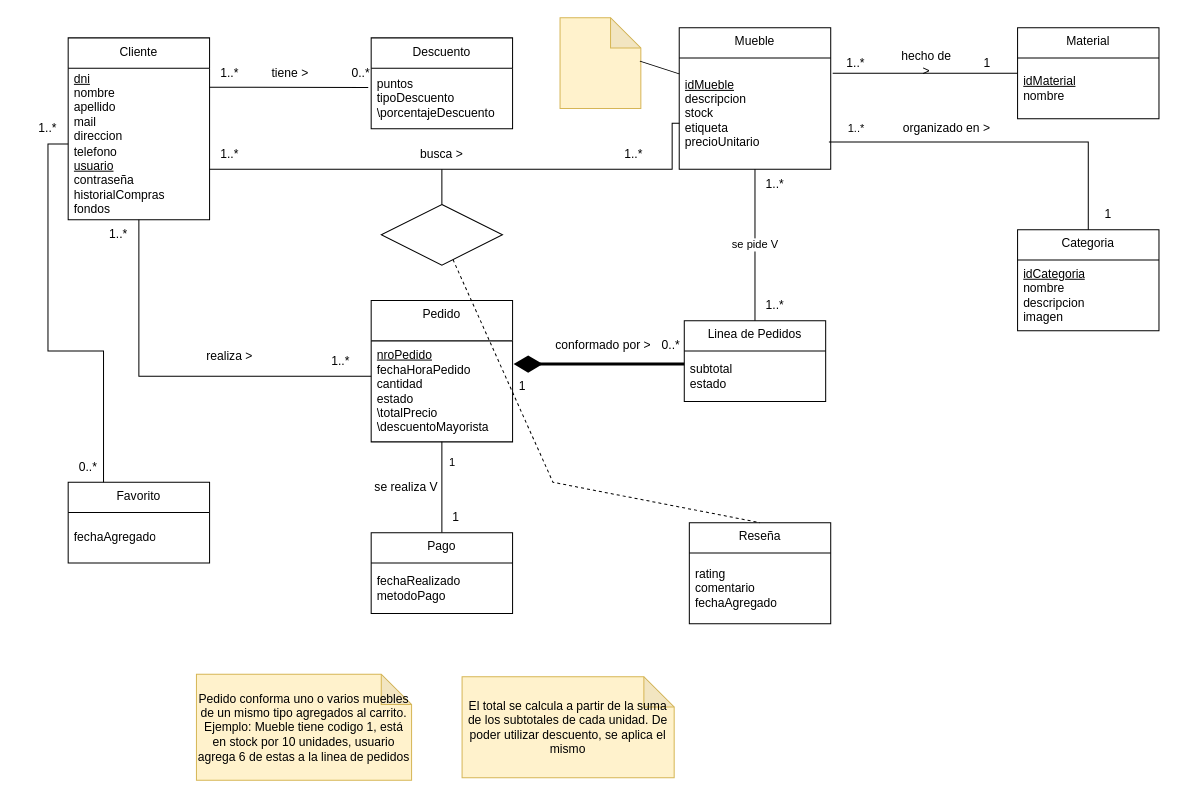
The diagram is 1177 pixels wide and 798 high, and some of its shapes have lost their labels. The shapes that lost their labels are listed below. From the top down, each one's centre as x and y in pixels, then its label:
At point (600, 63): "etiqueta se refiere a moderno, rustico, etc".
At point (441, 234): "genera".
